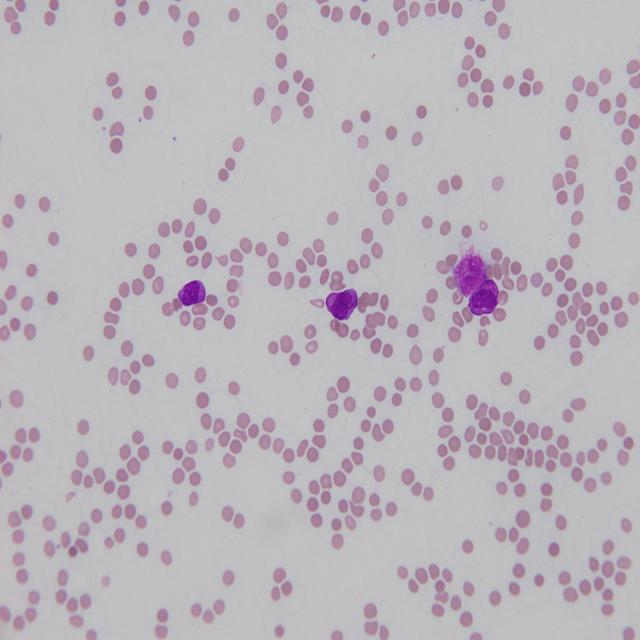cell: (454, 247, 486, 296), (469, 279, 499, 316), (325, 288, 358, 320), (178, 280, 206, 306)
